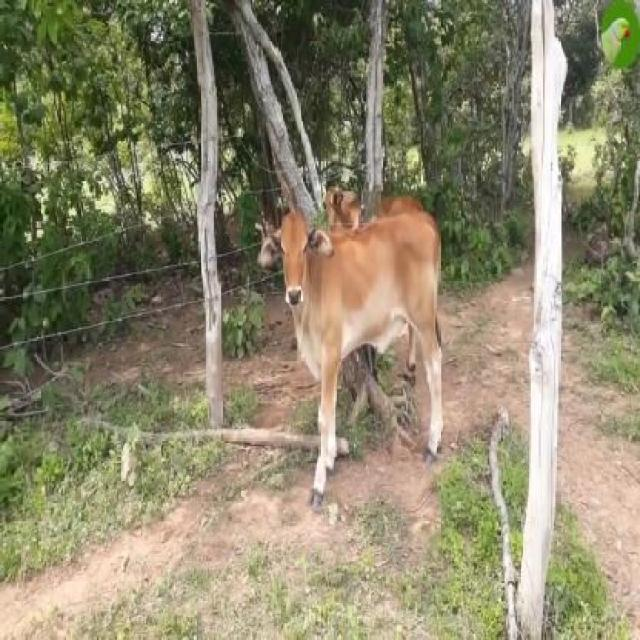Cow: (259, 208, 443, 506)
